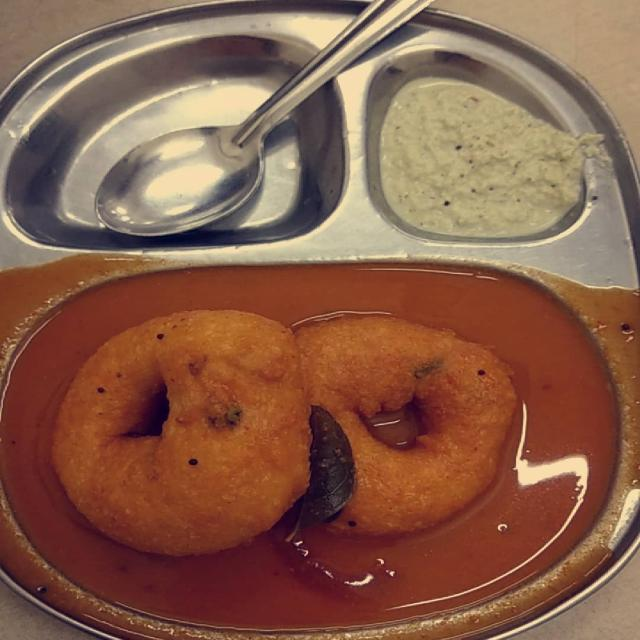Wet Waste: (32, 266, 613, 638), (64, 312, 311, 561), (297, 312, 514, 545), (374, 91, 585, 244)
